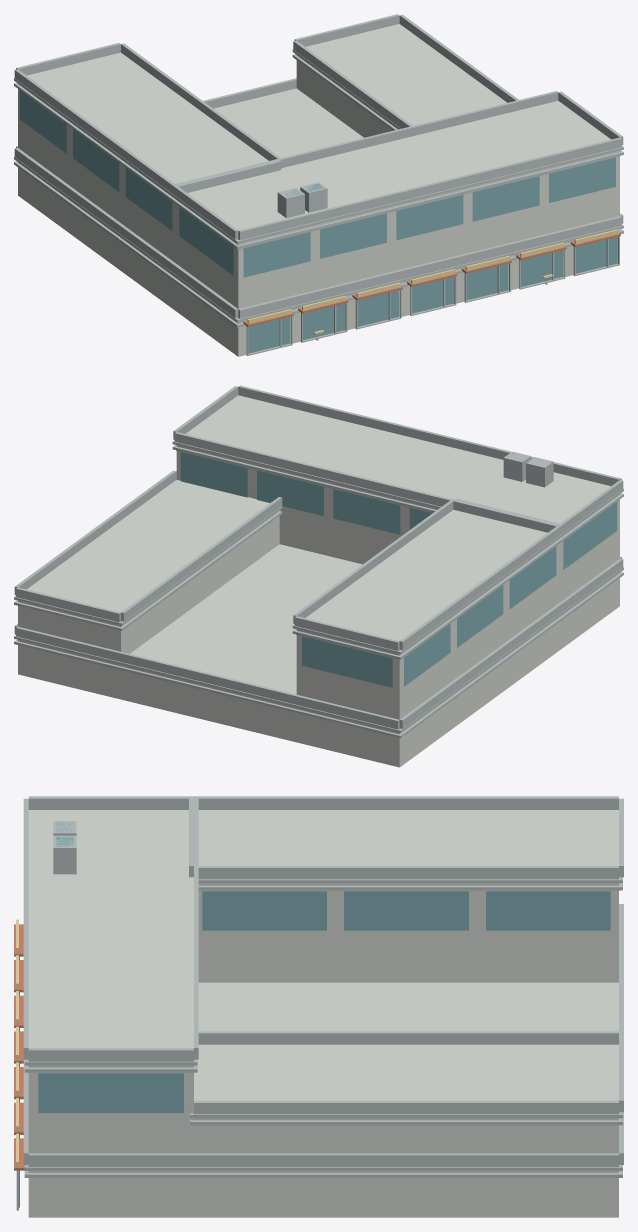
Rendered from commercial_4x4_court.glb.
3 views of the same model, one above another, from view 1: azimuth 30°, elevation 25°; view 2: azimuth 150°, elevation 25°; view 3: azimuth 270°, elevation 25° (orthographic). The views are drawn at different scales.
Parts seen in each view (by area): view 1: commercial_4x4_court_0; view 2: commercial_4x4_court_0; view 3: commercial_4x4_court_0.
Part boxes in pixels (x1,y1,x2,y2): commercial_4x4_court_0: (14, 14, 623, 356); commercial_4x4_court_0: (14, 385, 623, 767); commercial_4x4_court_0: (14, 796, 623, 1217).
Size of the model in its own units: 31 by 10.5 by 31.5.
